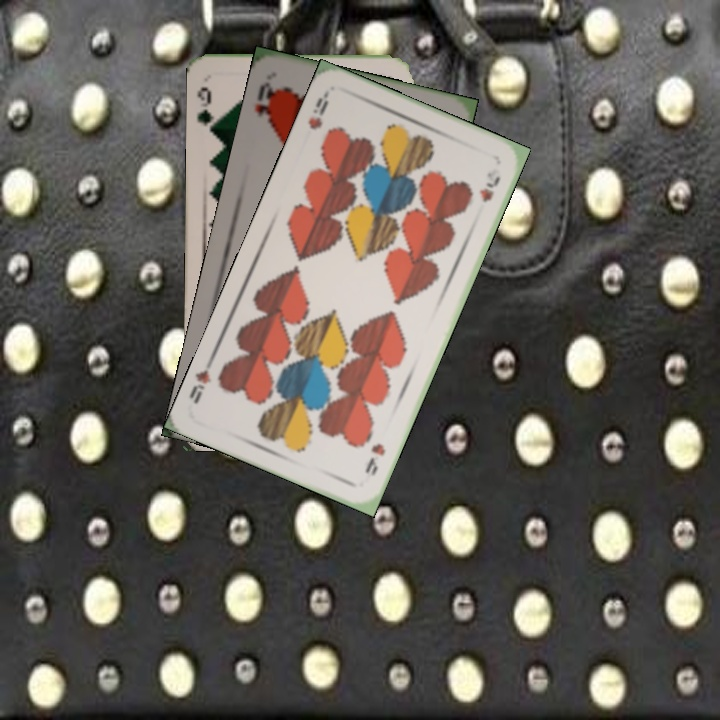G9: (193, 83, 220, 135)
H9: (303, 88, 331, 132), (361, 439, 388, 479)
HO: (250, 77, 280, 125)
